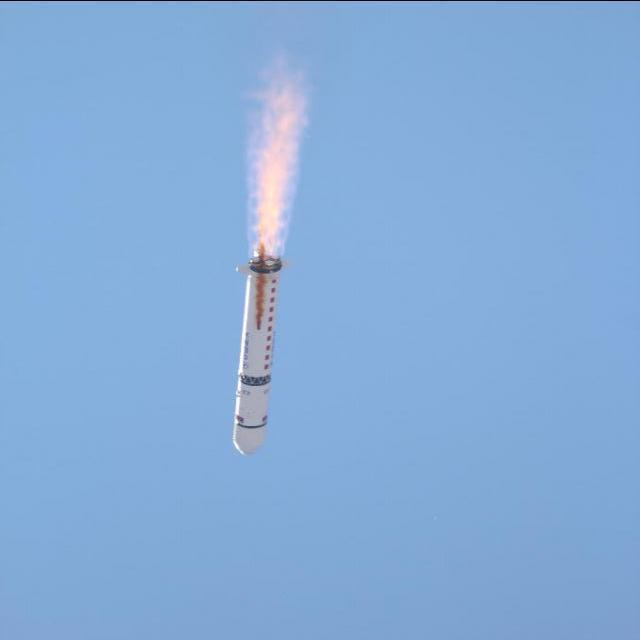missile: (227, 243, 287, 468)
